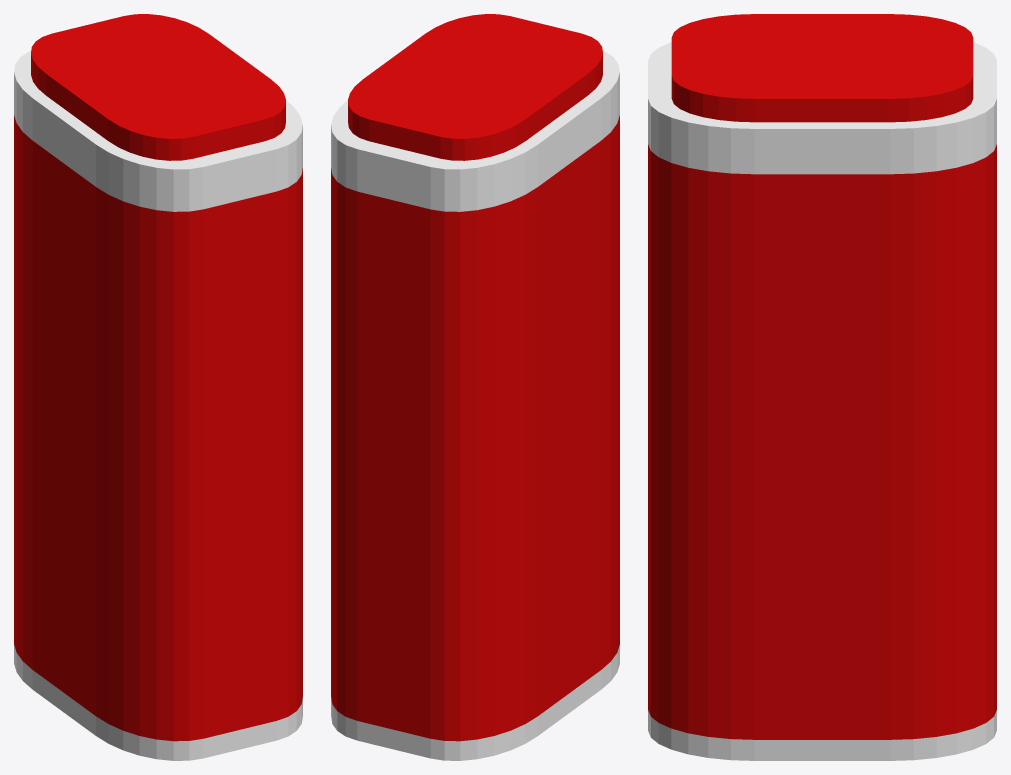
The model's file is Süßstoff.fbx.
The picture shows the model from 3 angles, left to right: view 1: azimuth 30°, elevation 25°; view 2: azimuth 150°, elevation 25°; view 3: azimuth 270°, elevation 25°; orthographic projection. The views are drawn at different scales.
Visible parts, largest first — view 1: Cube; view 2: Cube; view 3: Cube.
Boxes of the visible parts, x1,y1,x2,y2 form: Cube: [14, 14, 302, 760]; Cube: [331, 14, 619, 760]; Cube: [648, 14, 996, 760].
Bounding box in the file's own units: 20 × 62.22 × 30.
